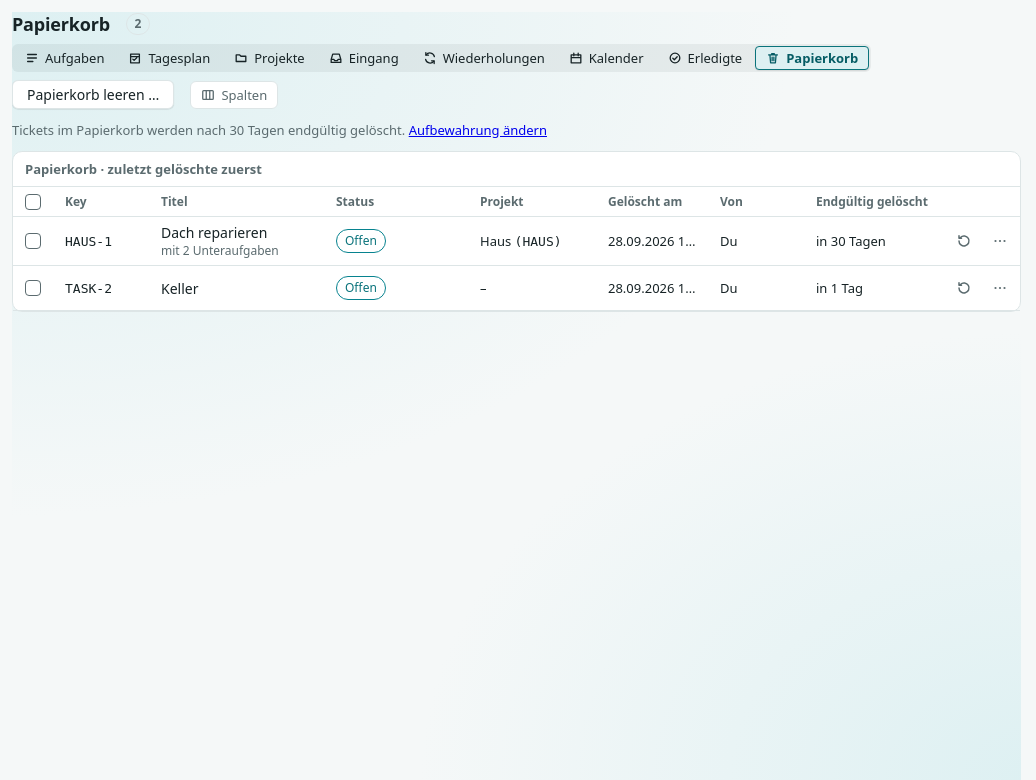
Test case: the focus after the bulk actions of the trash (MO-7c1) › puts the focus on the heading on the PC once "Wiederherstellen" leaves nothing to show (Q-2)
Click the checkbox named "HAUS-1 auswählen". click: {"x": 33, "y": 241}
box: [25,233,41,249]
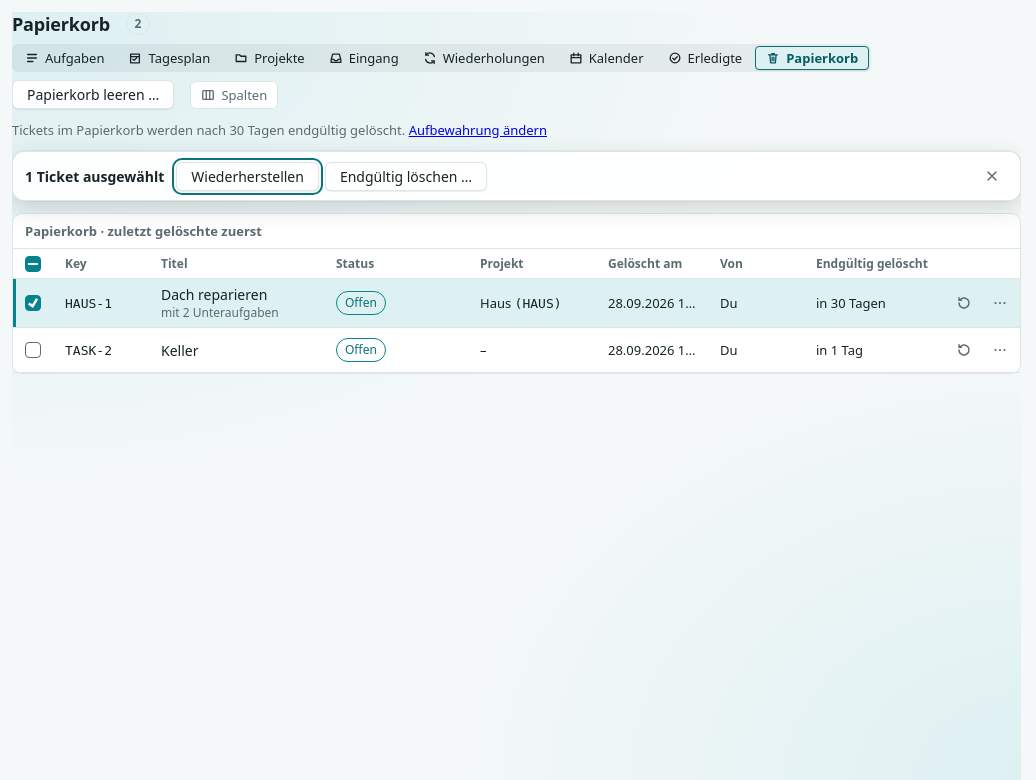
Click the button "Wiederherstellen". click: {"x": 248, "y": 176}
box: [176,162,319,190]
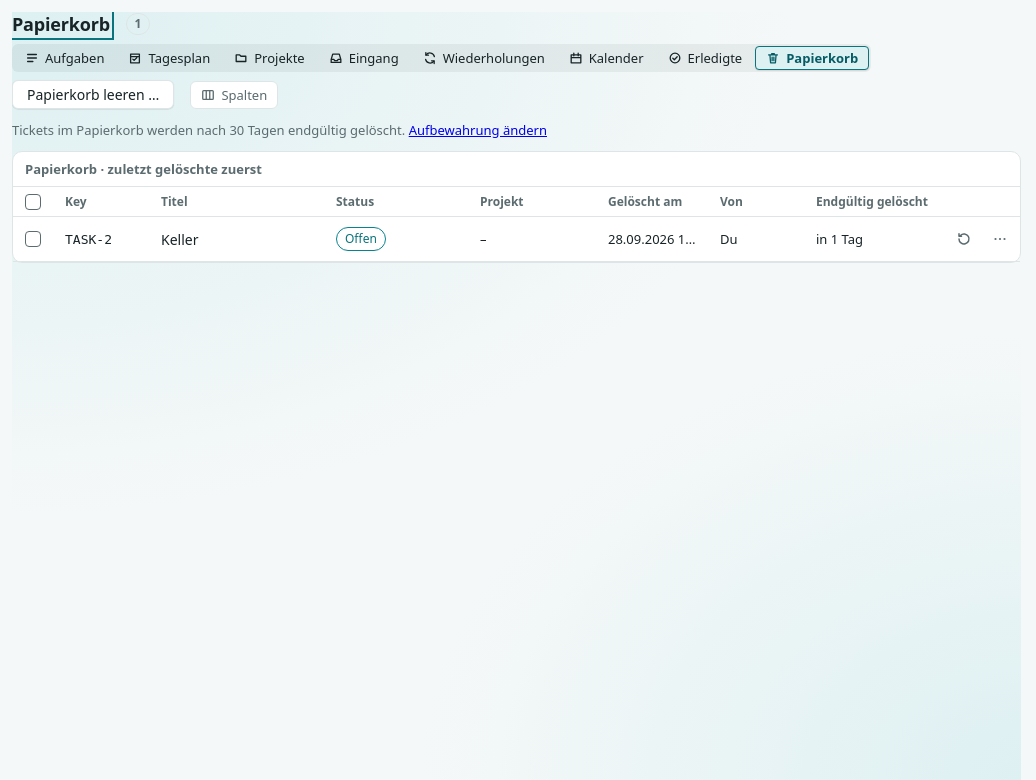
Result: the text "ausgewählt" is gone
